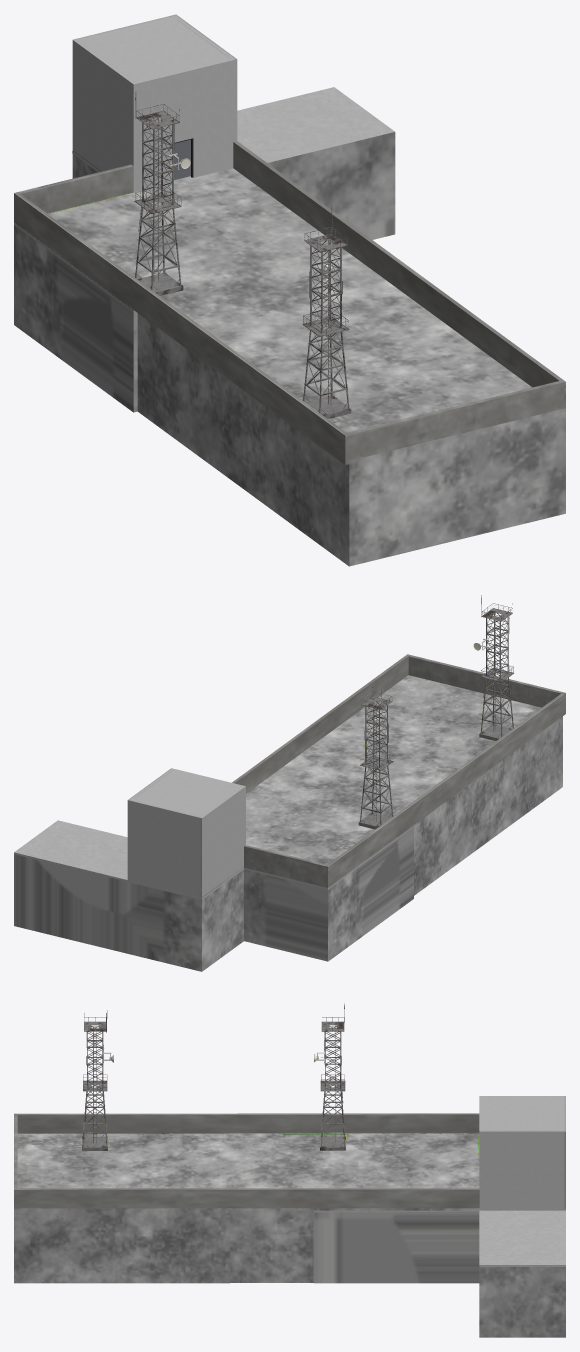
The model's file is Adjust Cable ODU to IDU.fbx.
The picture shows the model from 3 angles, top to bottom: view 1: azimuth 30°, elevation 25°; view 2: azimuth 150°, elevation 25°; view 3: azimuth 270°, elevation 25°; orthographic projection. The views are drawn at different scales.
Parts seen in each view (by area): view 1: Plane, Cube_007_2, Cube_004_9, Cube_002_12, Cube_18, Tower, Tower_1, Tower_001_1, Tower_001; view 2: Plane, Cube_002_12, Cube_007_2, Cube_004_9, Cube_18, Tower_1, Tower, Tower_001_1, Tower_001; view 3: Plane, Cube_007_2, Cube_002_12, Cube_004_9, Cube_18, Tower, Tower_1, Tower_001_1, Tower_001.
Boxes of the visible parts, <box> form: Plane: <box>48,168,565,566</box>; Cube_007_2: <box>14,141,565,464</box>; Cube_004_9: <box>72,14,237,192</box>; Cube_002_12: <box>14,132,395,412</box>; Cube_18: <box>14,87,394,312</box>; Tower: <box>135,118,183,295</box>; Tower_1: <box>303,240,351,418</box>; Tower_001_1: <box>302,203,349,405</box>; Tower_001: <box>134,91,181,281</box>; Plane: <box>244,675,562,895</box>; Cube_002_12: <box>14,825,413,971</box>; Cube_007_2: <box>232,654,565,887</box>; Cube_004_9: <box>127,768,245,897</box>; Cube_18: <box>14,820,413,899</box>; Tower_1: <box>479,613,513,740</box>; Tower: <box>358,701,393,829</box>; Tower_001_1: <box>480,595,514,731</box>; Tower_001: <box>360,687,393,821</box>; Plane: <box>14,1133,482,1283</box>; Cube_007_2: <box>14,1113,479,1208</box>; Cube_002_12: <box>313,1212,565,1337</box>; Cube_004_9: <box>479,1096,565,1210</box>; Cube_18: <box>313,1210,565,1266</box>; Tower: <box>320,1026,345,1150</box>; Tower_1: <box>82,1026,107,1150</box>; Tower_001_1: <box>83,1010,107,1143</box>; Tower_001: <box>320,1003,345,1142</box>.
Bounding box in the file's own units: 2067 × 1586 × 3683.
